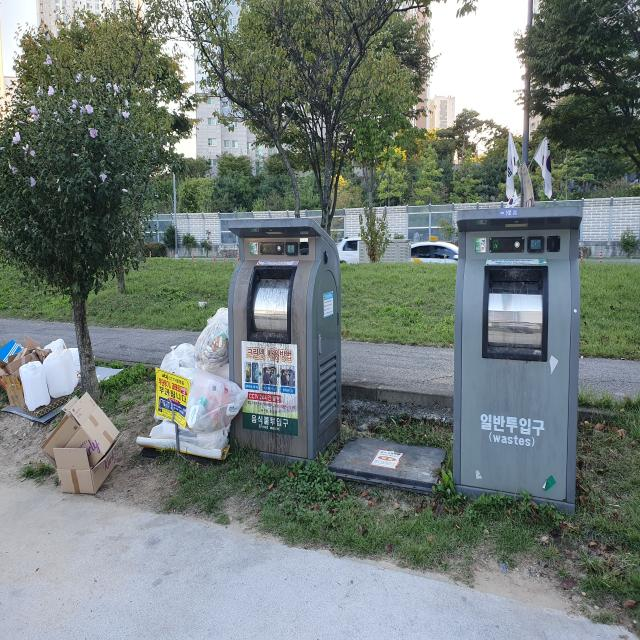CleanNet: (451, 201, 583, 513), (227, 217, 343, 466)
General Waste: (135, 307, 248, 460), (44, 390, 121, 498), (0, 337, 81, 414)
